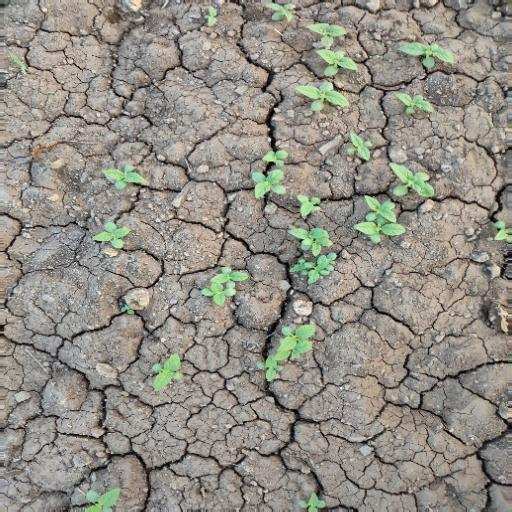crop: (355, 162, 441, 263), (258, 310, 332, 404), (293, 24, 360, 115), (289, 223, 339, 290), (392, 25, 455, 73), (144, 346, 193, 402), (199, 262, 252, 313), (248, 148, 290, 204), (105, 155, 149, 203), (386, 90, 438, 119), (89, 219, 133, 252)
